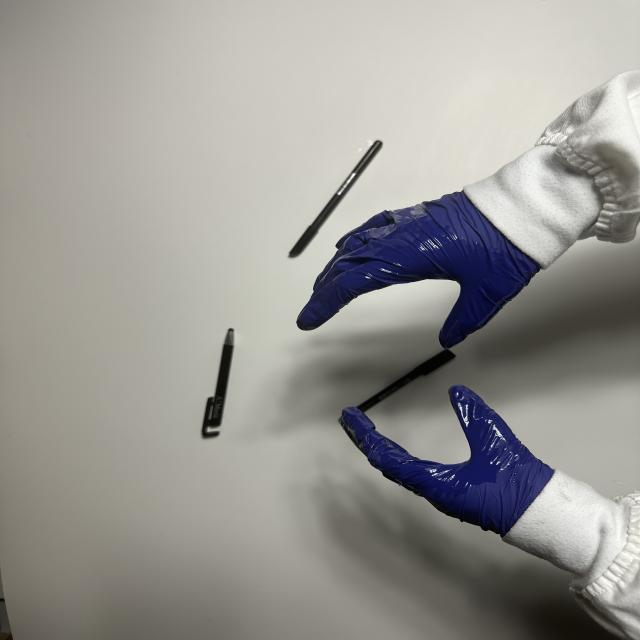gloves_contaminated: (297, 192, 539, 348), (340, 385, 554, 536)
